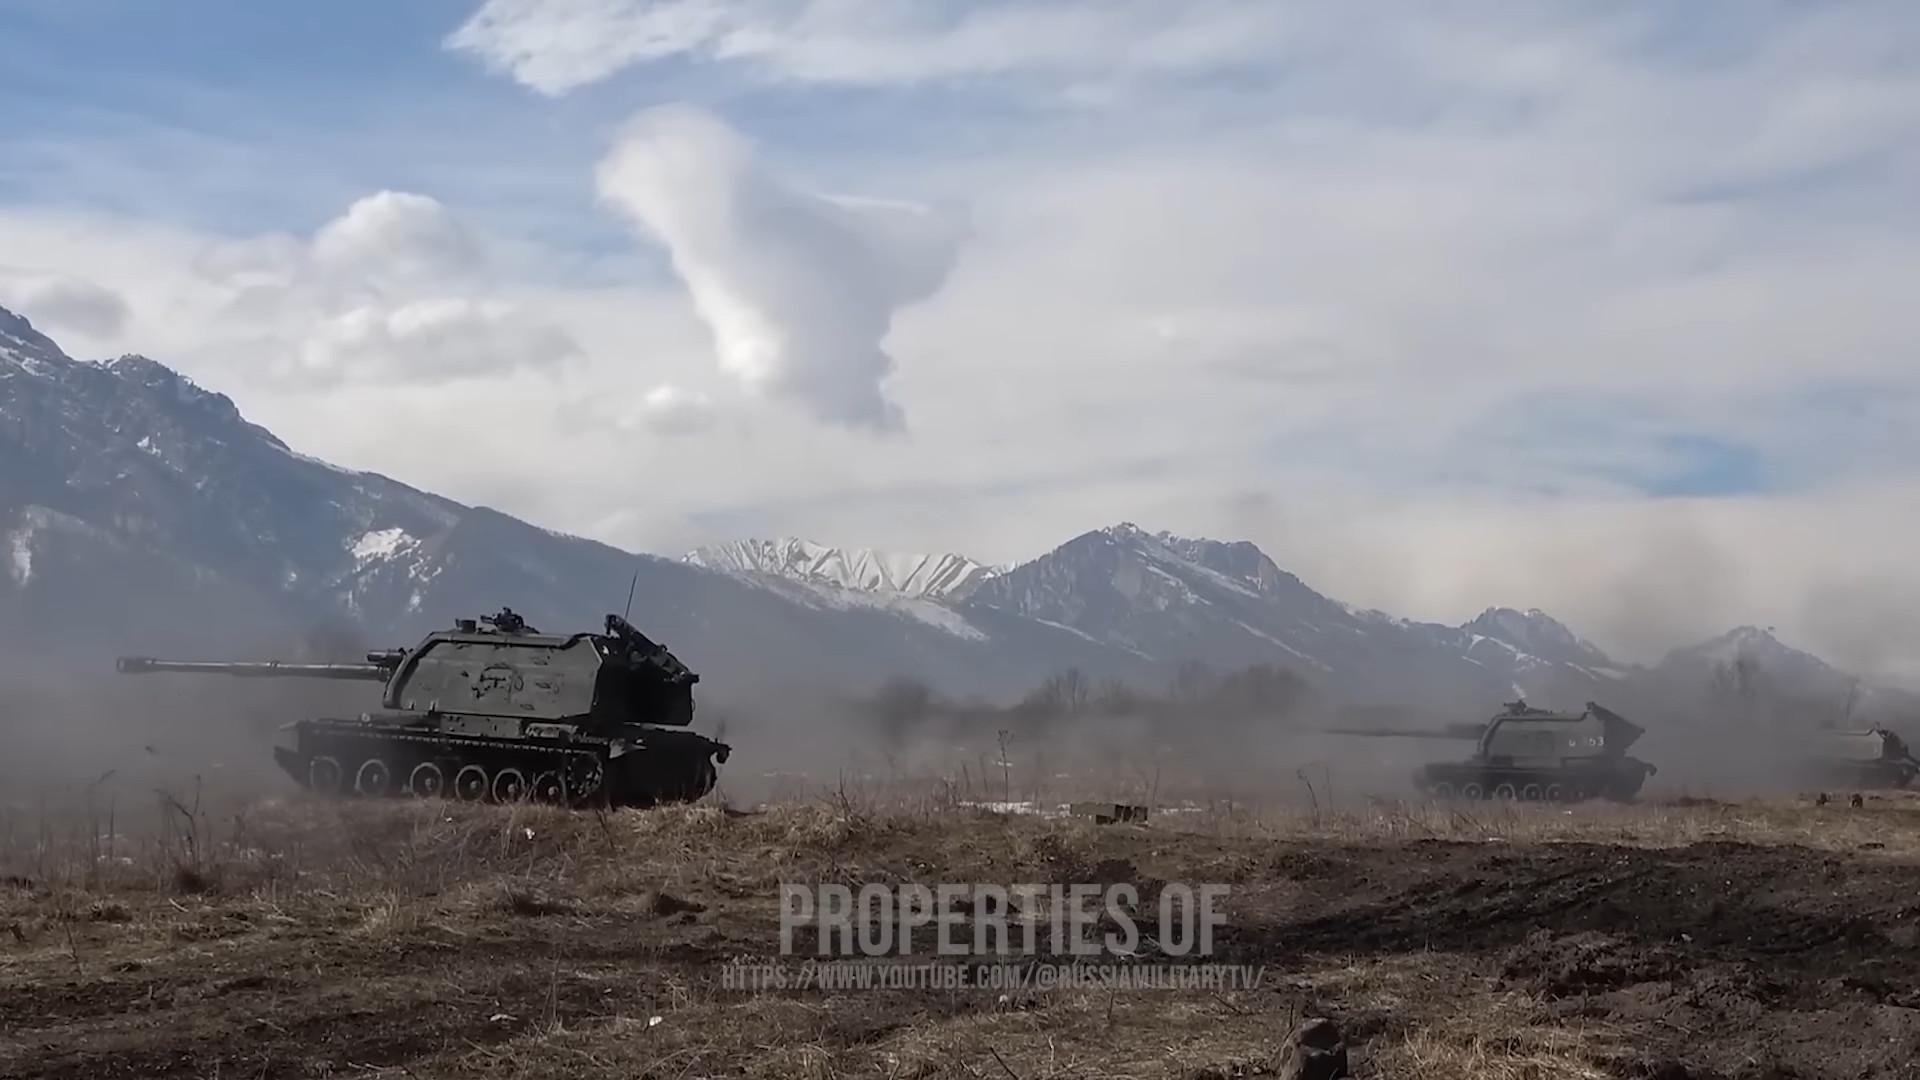tank: (116, 570, 732, 807), (1320, 698, 1658, 804)
